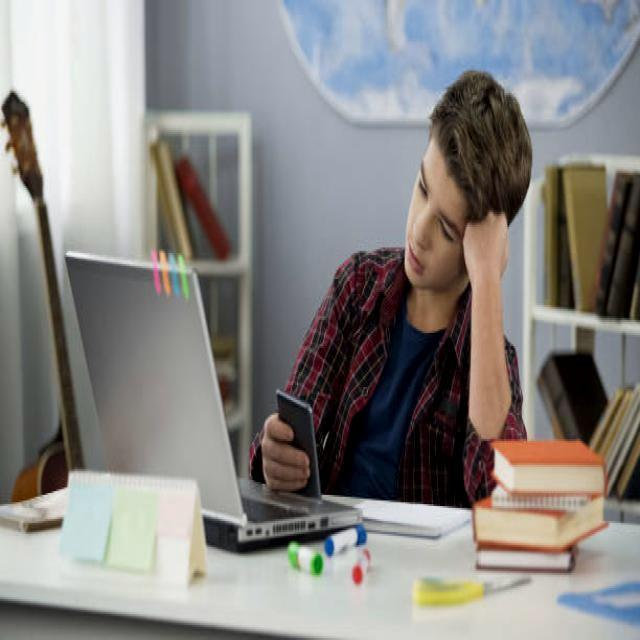Phone use: (240, 71, 531, 497)
